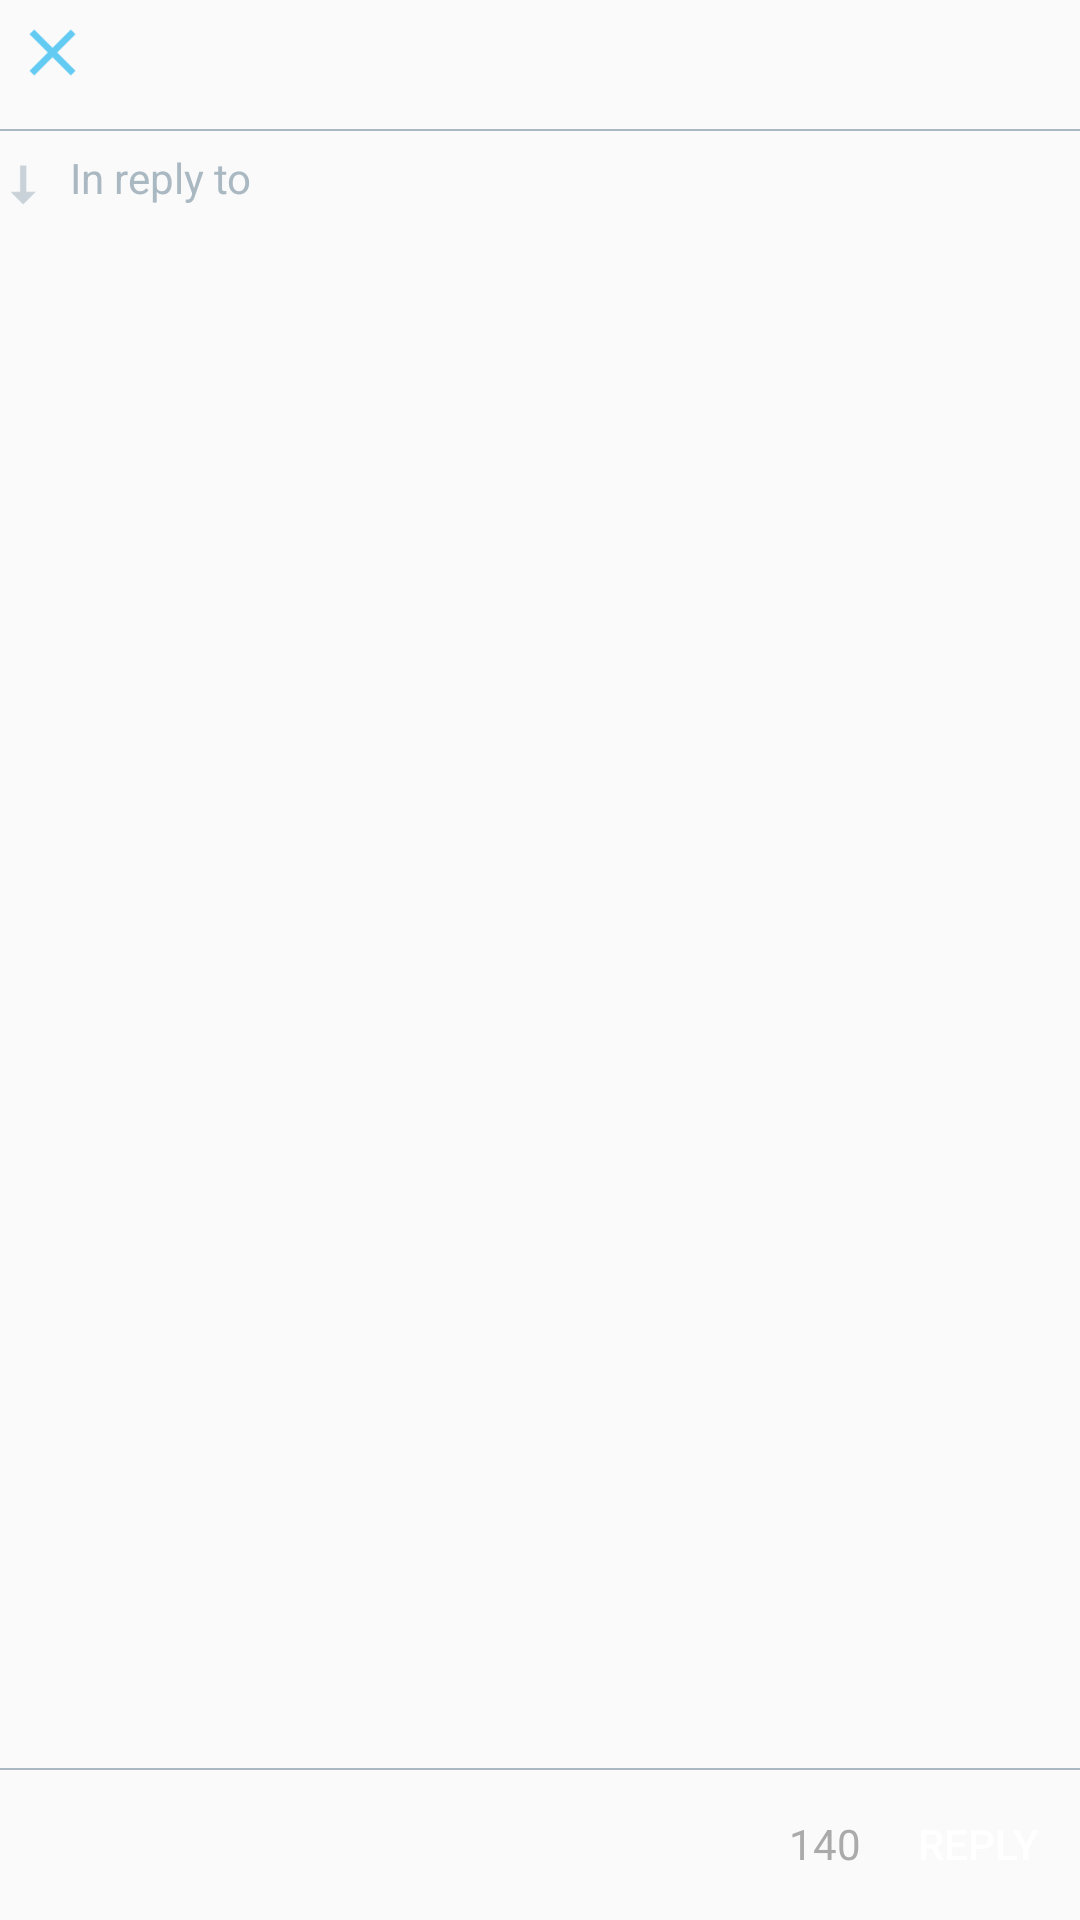

Icon click points for this 1080×1920 phone screenshot, format point (x, y):
arrowdownwards: point (23, 184)
cancel: point (52, 52)
